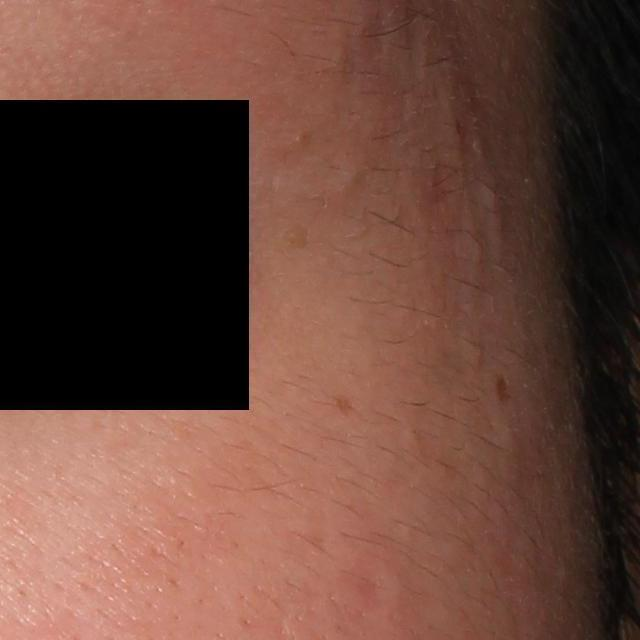comedo: (333, 167, 361, 194)
melasma: (332, 392, 355, 418), (496, 371, 512, 401)
